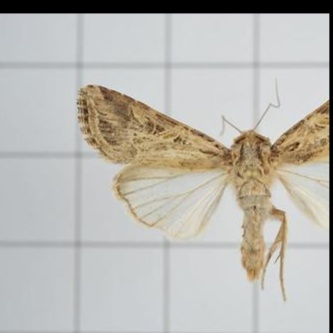Spodoptera litura: (75, 77, 329, 302)
